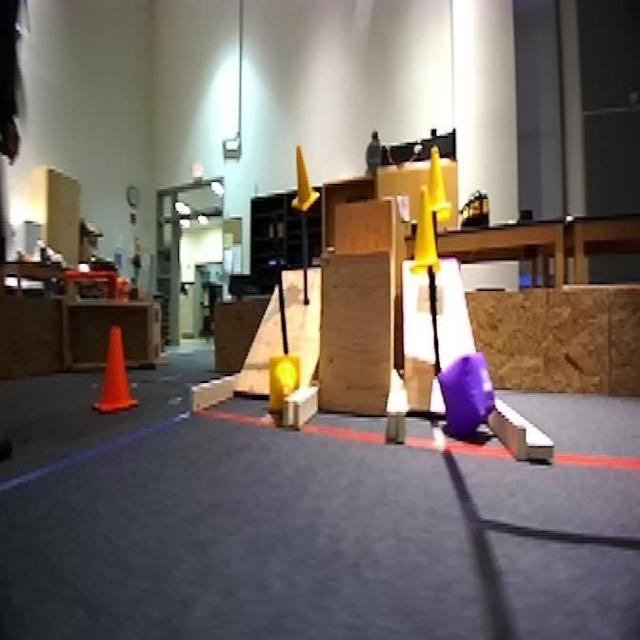frc_cone: (408, 188, 443, 272), (421, 148, 452, 223), (291, 143, 320, 213), (268, 352, 300, 414)
frc_cube: (437, 348, 496, 438)
